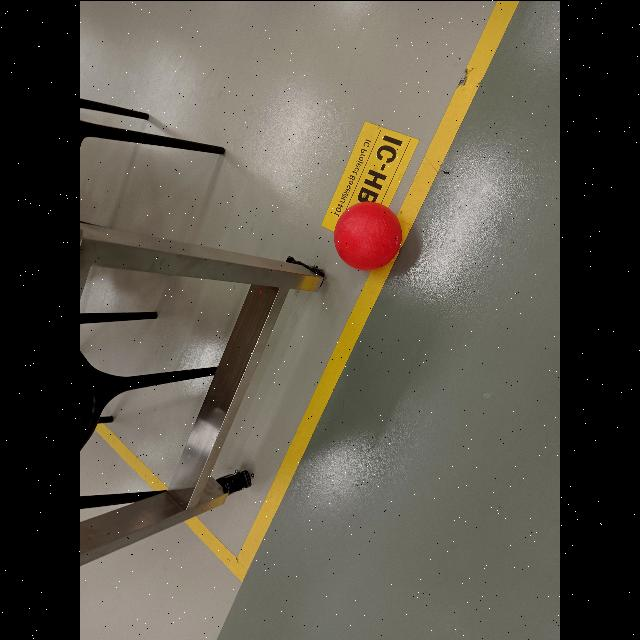R: (333, 201, 403, 269)
